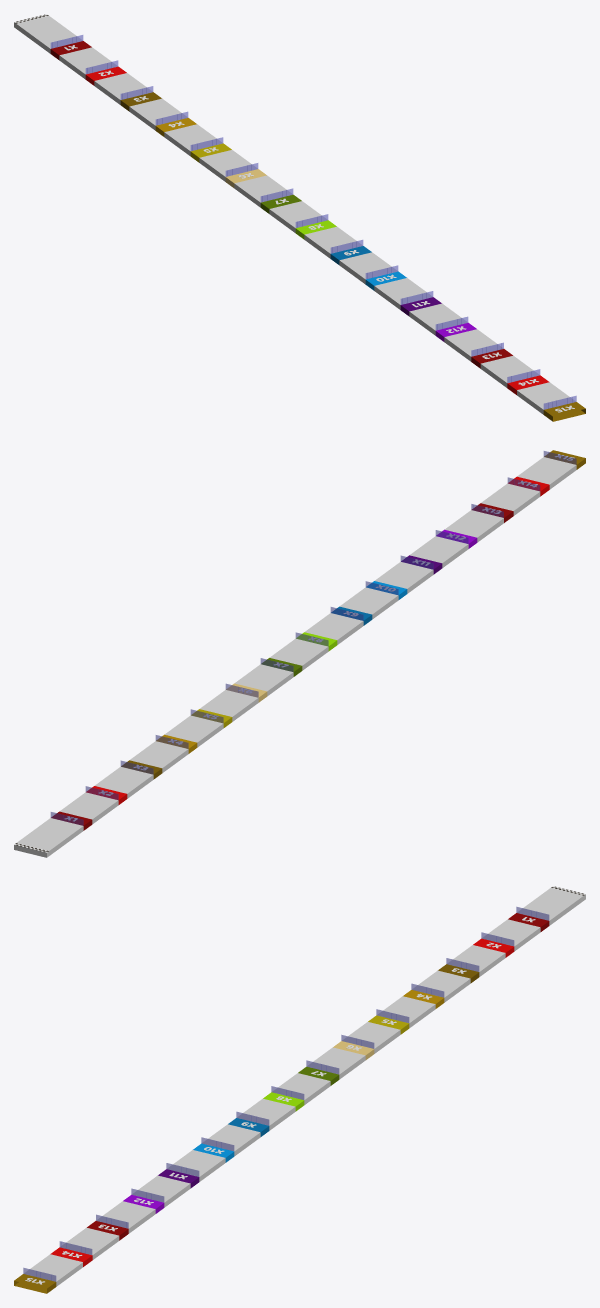
The model's file is Finish.fbx.
3 renders of one model, top to bottom at view 1: azimuth 30°, elevation 25°; view 2: azimuth 150°, elevation 25°; view 3: azimuth 330°, elevation 25°, orthographic.
Visible parts, largest first — view 1: Finish_Base; view 2: Finish_Base; view 3: Finish_Base.
Boxes of the visible parts, <box> form: Finish_Base: <box>14,14,585,421</box>; Finish_Base: <box>14,450,585,857</box>; Finish_Base: <box>14,886,585,1293</box>.
Size of the model in its own units: 668 by 221 by 18951.
19 materials, 1 textured.
